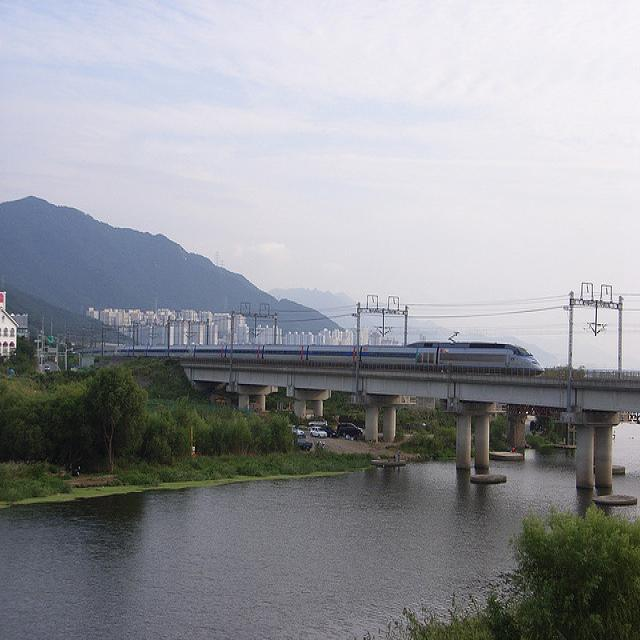fire_hydrant: (191, 446, 195, 458)
